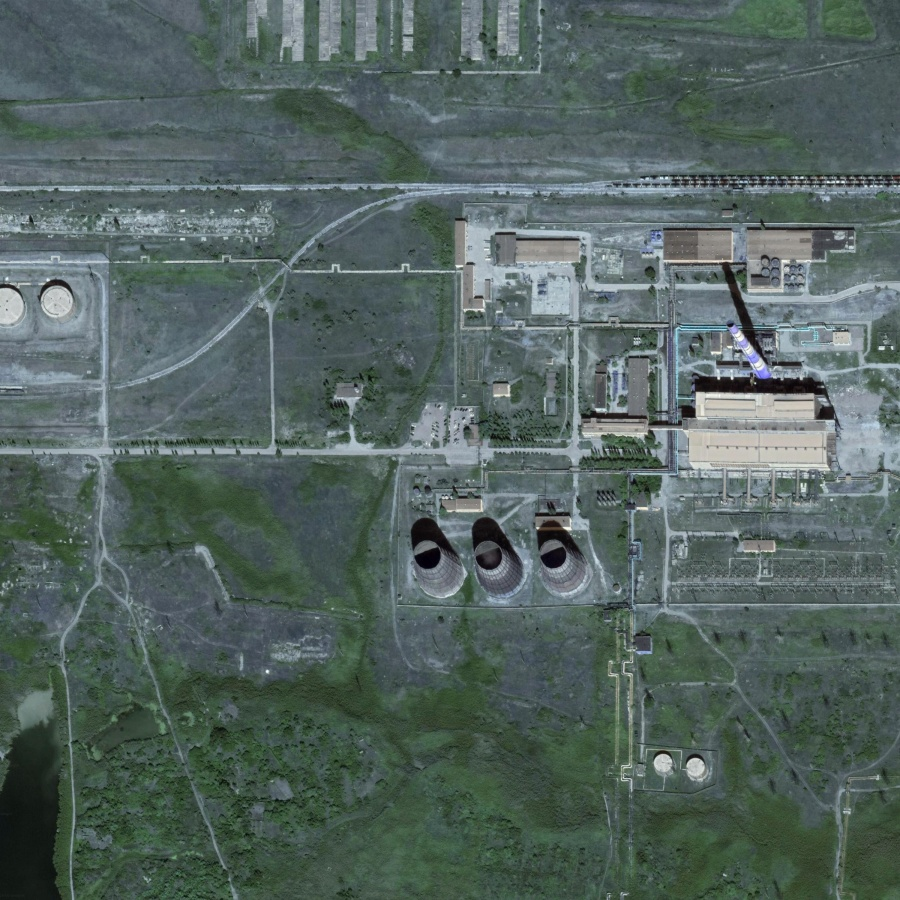PowerPlant: (384, 200, 866, 629)
